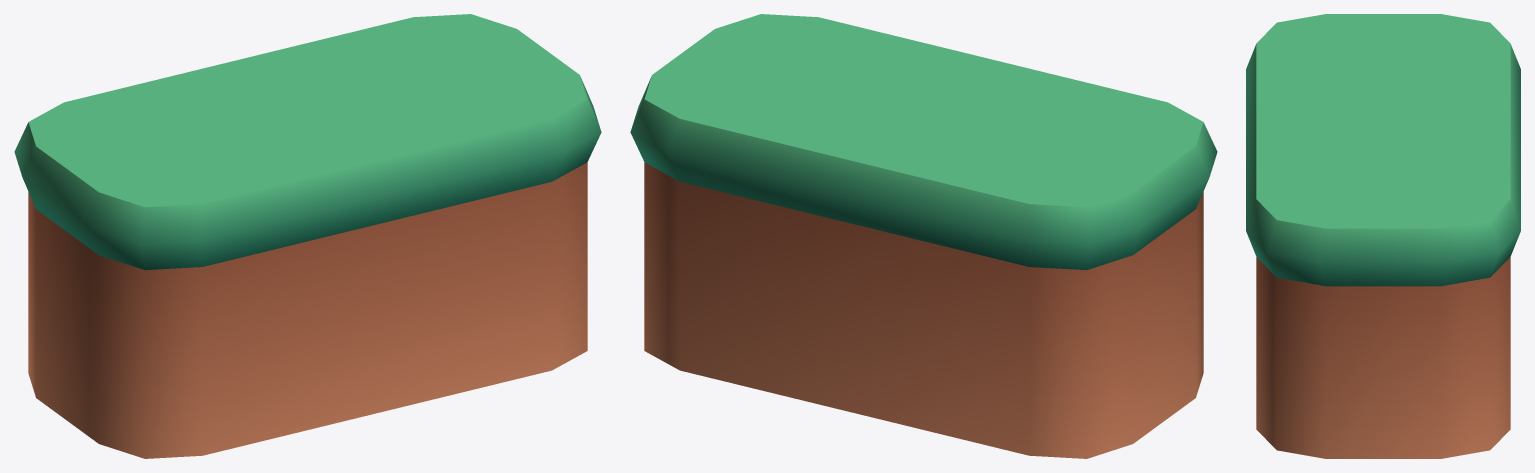
Rendered from block-grass-long.glb.
3 renders of one model, left to right at view 1: azimuth 30°, elevation 25°; view 2: azimuth 150°, elevation 25°; view 3: azimuth 270°, elevation 25°, orthographic. The views are drawn at different scales.
Visible parts, largest first — view 1: block-grass-long; view 2: block-grass-long; view 3: block-grass-long.
Part boxes in pixels (x1,y1,x2,y2): block-grass-long: (14,14,601,458); block-grass-long: (630,14,1217,458); block-grass-long: (1246,14,1520,458).
Size of the model in its own units: 2.08 by 1 by 1.08.
Materials: 1 (1 with a texture image).
